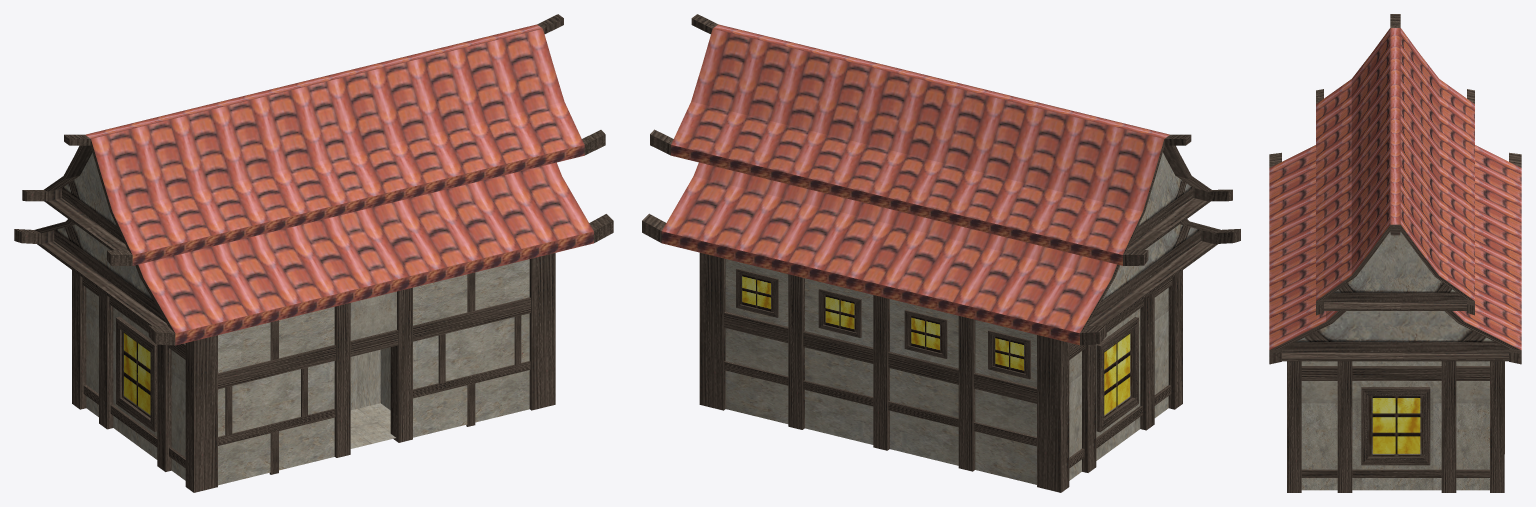
Rendered from templo.fbx.
The picture shows the model from 3 angles, left to right: view 1: azimuth 30°, elevation 25°; view 2: azimuth 150°, elevation 25°; view 3: azimuth 270°, elevation 25°; orthographic projection. The views are drawn at different scales.
Visible parts, largest first — view 1: Cube.000, Cube.001, Cube.002; view 2: Cube.000, Cube.002; view 3: Cube.000, Cube.002.
Boxes of the visible parts, x1,y1,x2,y2 form: Cube.000: [14, 14, 613, 492]; Cube.001: [350, 347, 395, 448]; Cube.002: [122, 331, 150, 417]; Cube.000: [642, 14, 1240, 492]; Cube.002: [740, 274, 1132, 417]; Cube.000: [1269, 14, 1521, 492]; Cube.002: [1368, 396, 1423, 456].
Size of the model in its own units: 9.78 by 6.25 by 4.85.
